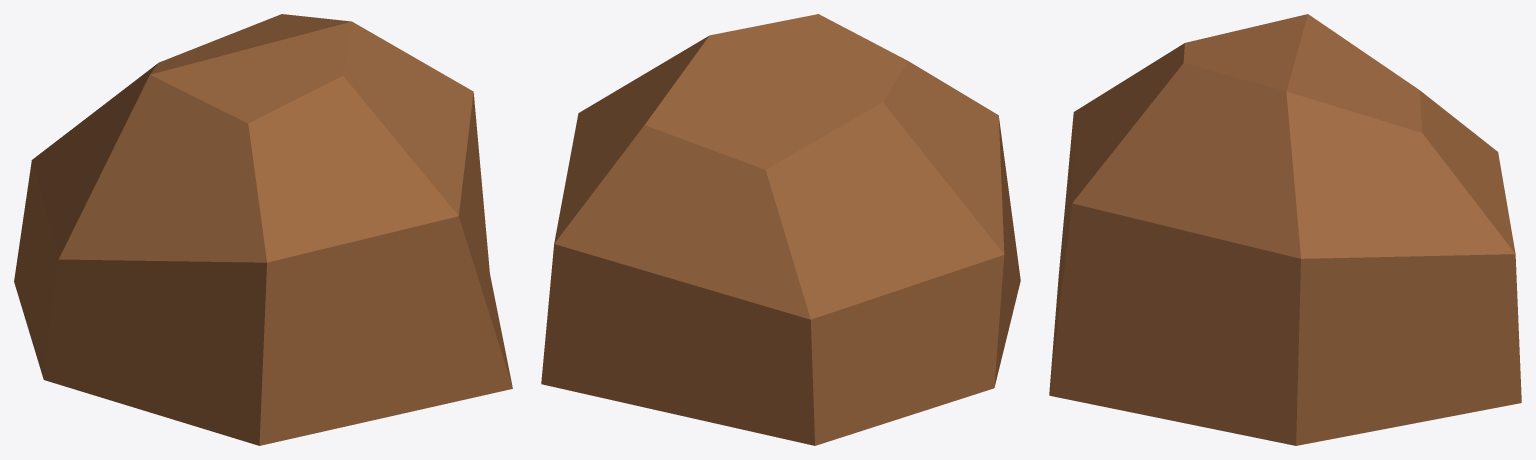
Rendered from rock.glb.
3 renders of one model, left to right at view 1: azimuth 30°, elevation 25°; view 2: azimuth 150°, elevation 25°; view 3: azimuth 270°, elevation 25°, orthographic. The views are drawn at different scales.
Parts seen in each view (by area): view 1: Cube; view 2: Cube; view 3: Cube.
Boxes of the visible parts, x1,y1,x2,y2 form: Cube: (14,14,512,445); Cube: (541,14,1020,445); Cube: (1049,14,1521,445).
Bounding box in the file's own units: 0.9309 × 0.58 × 0.869.
